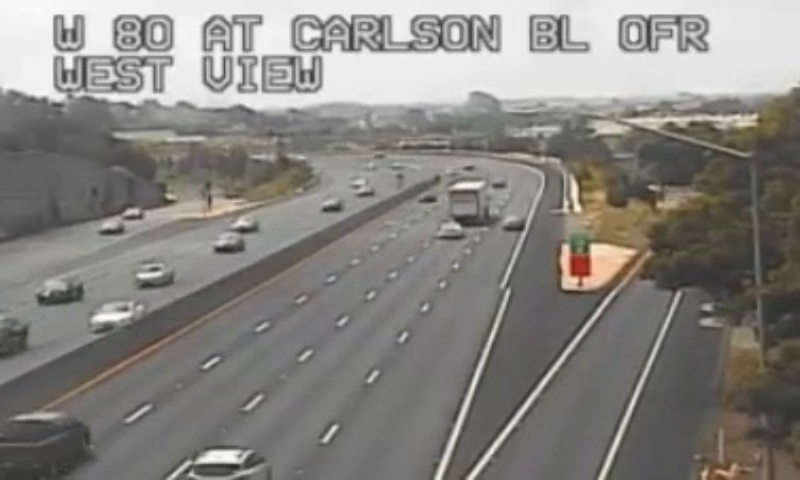car: (2, 411, 89, 478)
truck: (448, 179, 489, 222)
